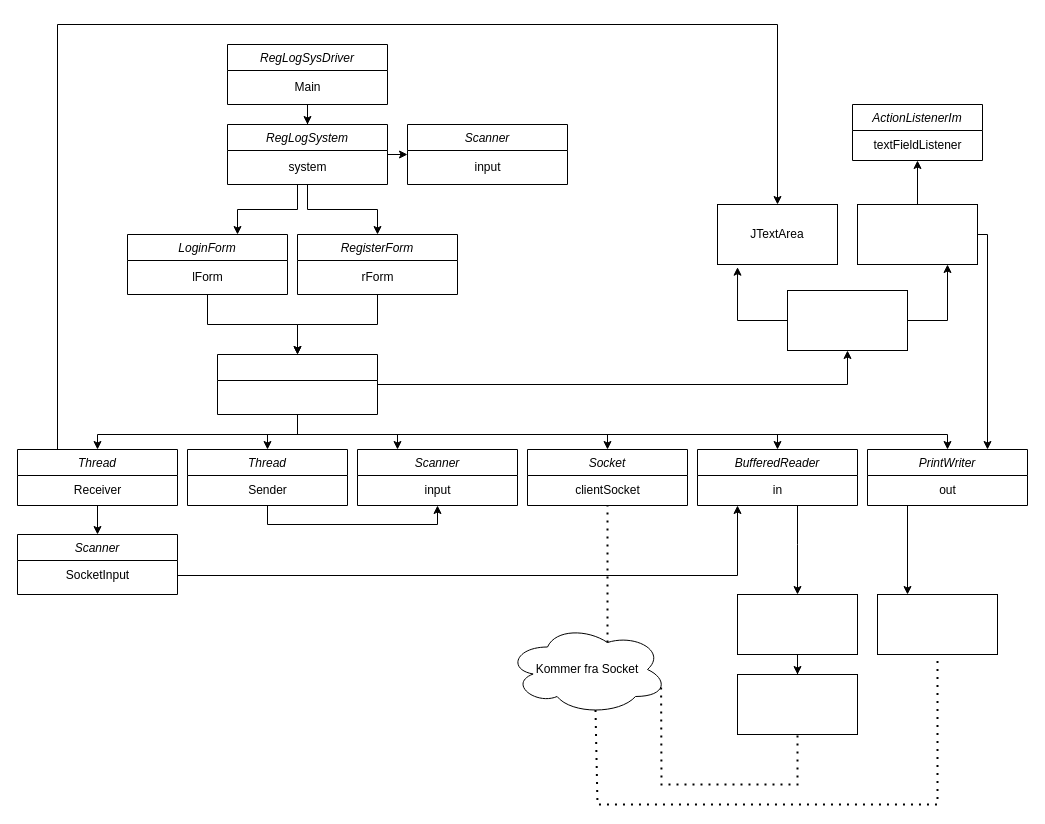
Some shapes in this 1045 by 824 pixel diagram are drawn without their labels. The centre of each missing label's shape, as x and y in pixels:
InputStream: [797,704]
InputStreamRader: [797,624]
Jframe: [847,320]
JTetxField: [917,234]
OutputStream: [937,624]
WelcomePage: [297,384]
